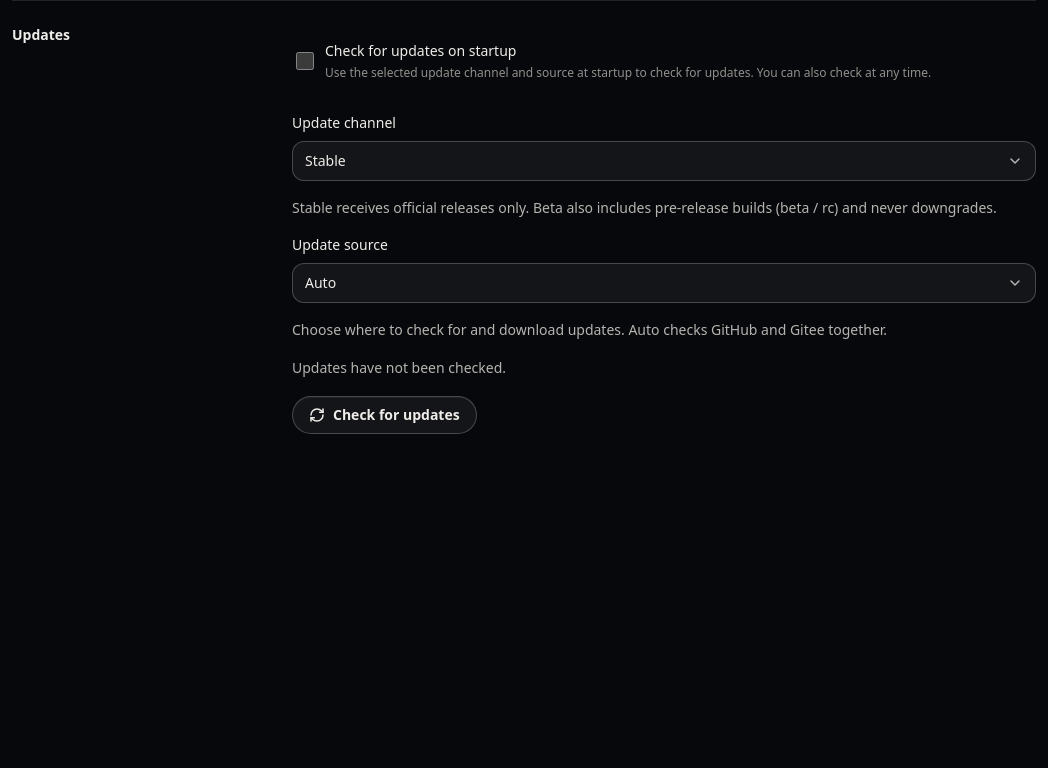
Scenario: Settings → About → Updates › waits for the game to exit before offering the install
Click the button "Check for updates" at (384, 415), box 292,396 -> 477,434
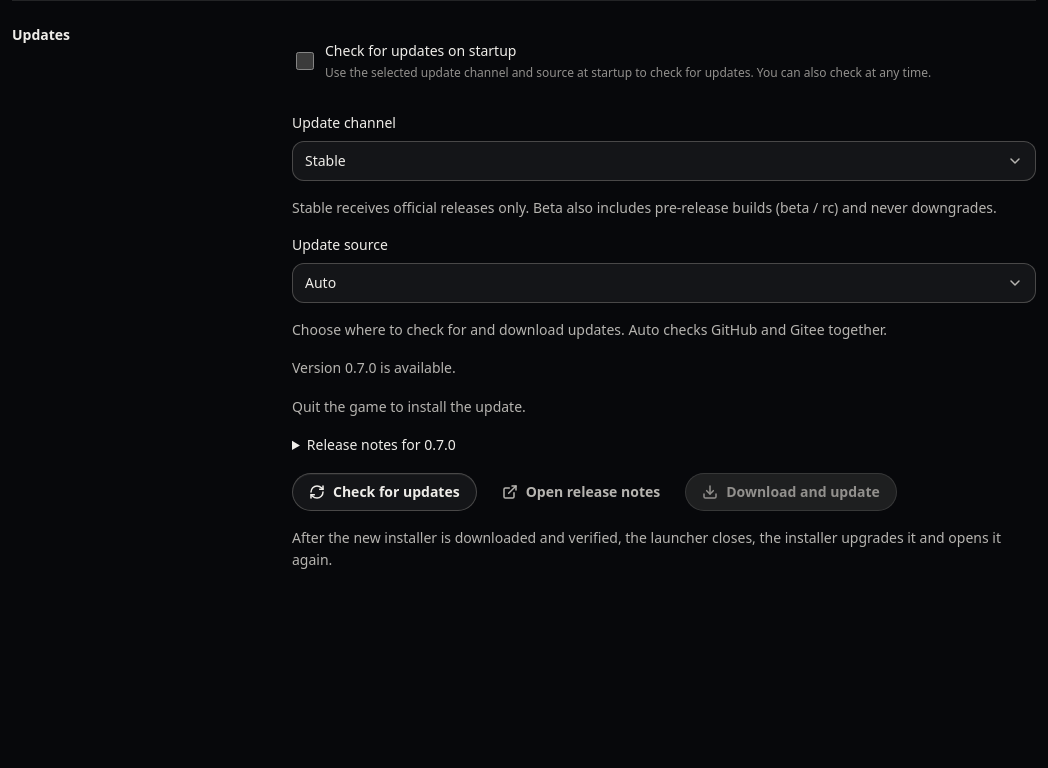
Check: the button "Download and update" is disabled, box 685,472 -> 897,510
Check: the text "Quit the game to install the update." is shown, box 292,397 -> 526,416
